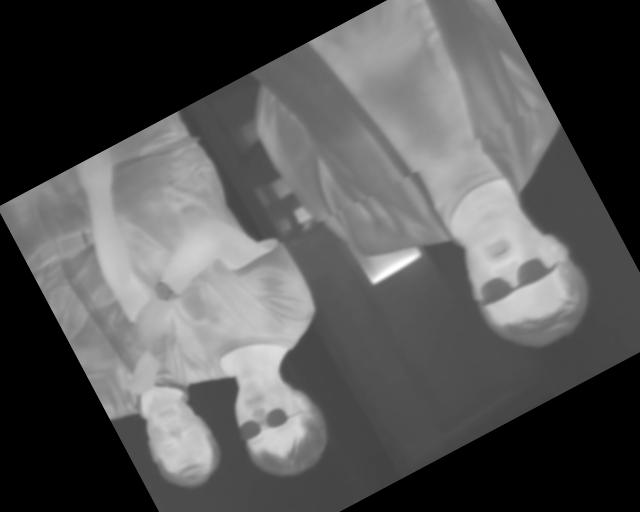face: (442, 190, 606, 369), (214, 355, 343, 494), (126, 380, 233, 502)
